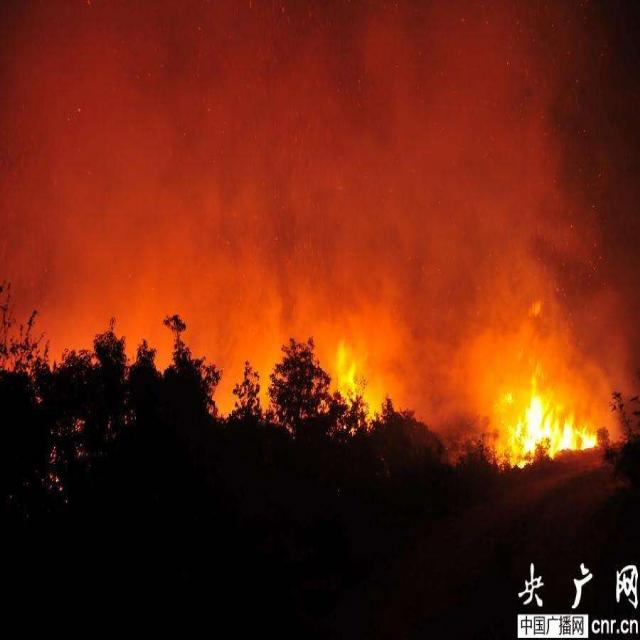fire: (498, 349, 602, 469), (332, 343, 380, 431)
